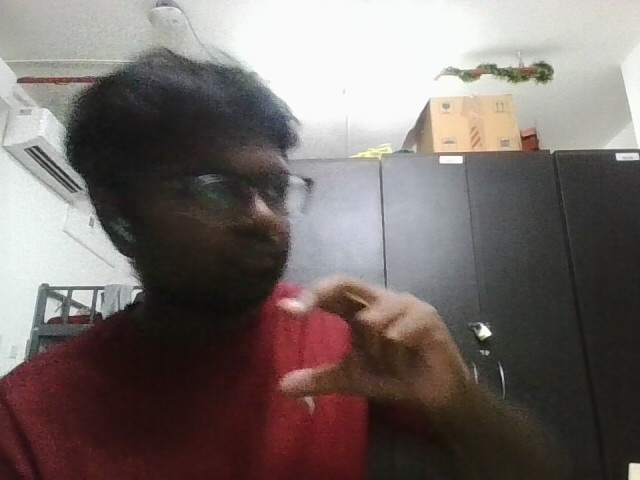No: (269, 257, 495, 430)
